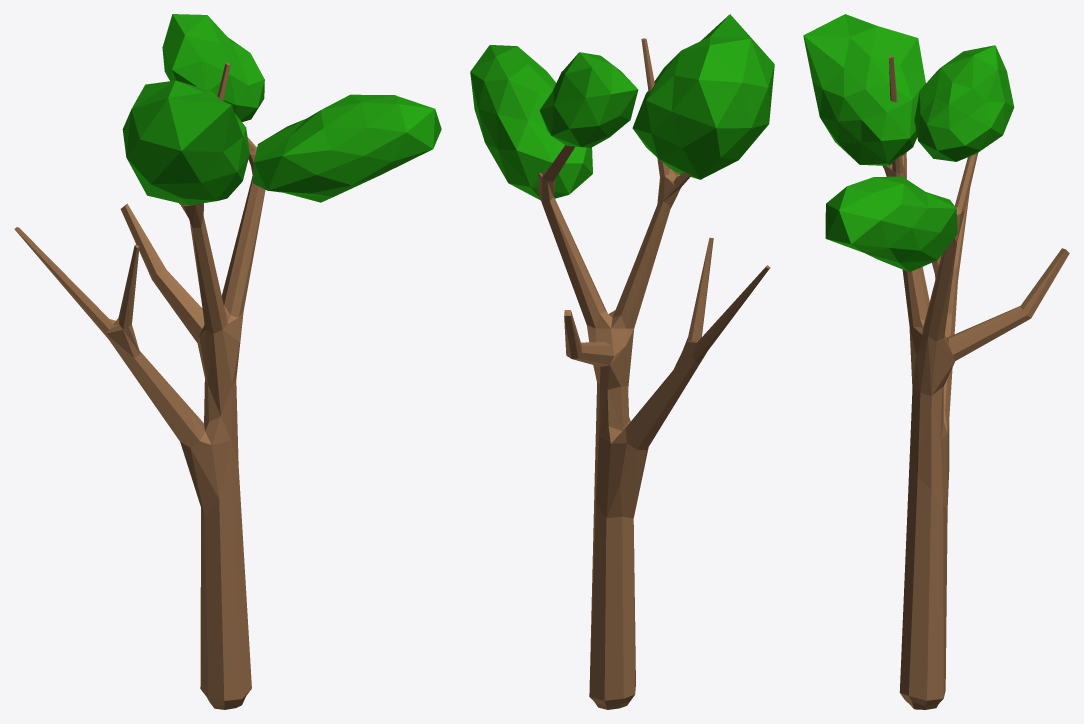
The model's file is Tree_4.fbx.
The picture shows the model from 3 angles, left to right: view 1: azimuth 30°, elevation 25°; view 2: azimuth 150°, elevation 25°; view 3: azimuth 270°, elevation 25°; orthographic projection. The views are drawn at different scales.
Visible parts, largest first — view 1: Tree4_mesh; view 2: Tree4_mesh; view 3: Tree4_mesh.
Part boxes in pixels (x1,y1,x2,y2): Tree4_mesh: [14, 14, 441, 709]; Tree4_mesh: [470, 14, 774, 709]; Tree4_mesh: [803, 14, 1069, 709].
Bounding box in the file's own units: 392 × 691 × 256.
